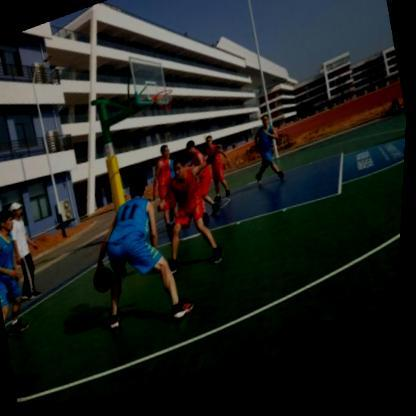basketball: (93, 266, 118, 298)
